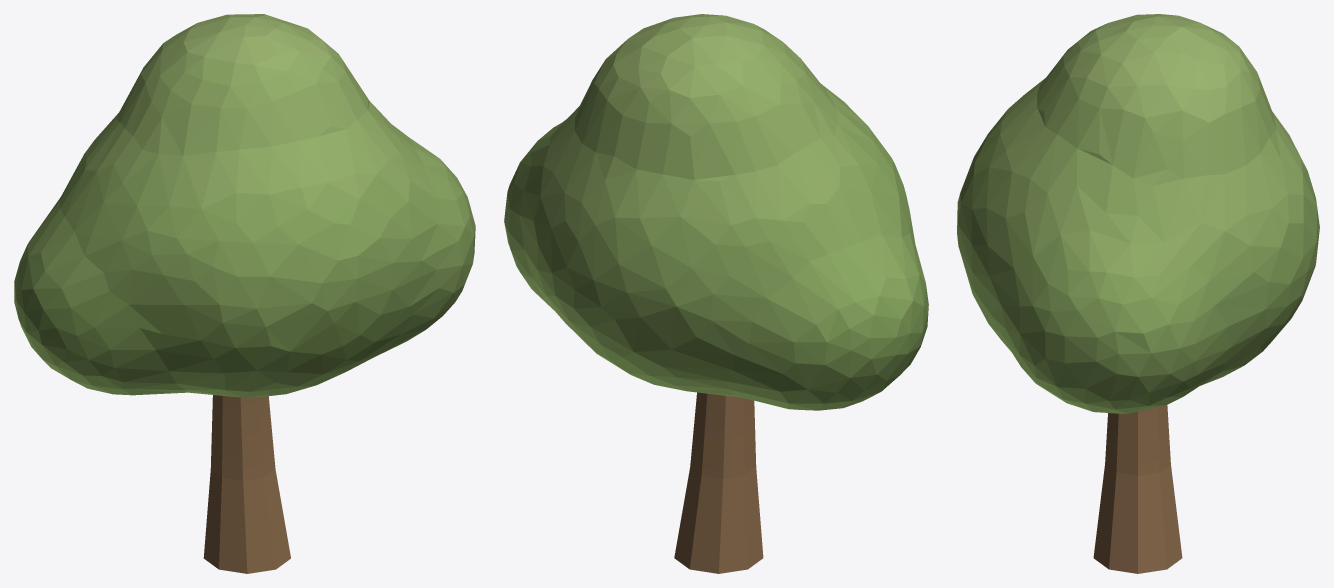
File: grove-soft-0.glb
3 views of the same model, side by side, from view 1: azimuth 30°, elevation 25°; view 2: azimuth 150°, elevation 25°; view 3: azimuth 270°, elevation 25° (orthographic). The views are drawn at different scales.
Visible parts, largest first — view 1: Icosphere, Trunk; view 2: Icosphere, Trunk; view 3: Icosphere, Trunk.
Boxes of the visible parts, left/top/right/bottom form: Icosphere: left=14, top=14, right=475, bottom=397; Trunk: left=203, top=395, right=290, bottom=573; Icosphere: left=504, top=14, right=928, bottom=410; Trunk: left=674, top=392, right=763, bottom=573; Icosphere: left=957, top=14, right=1319, bottom=414; Trunk: left=1093, top=405, right=1182, bottom=573.
Bounding box in the file's own units: 1.44 × 1.76 × 1.08.
